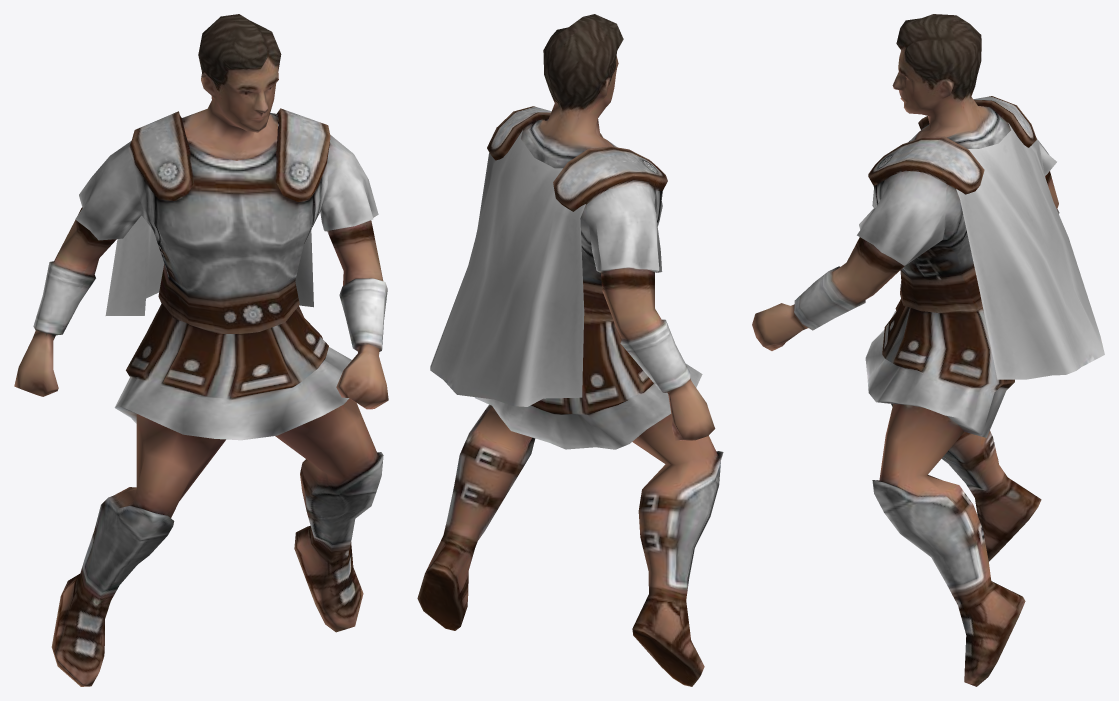
The model's file is rider-slice-heavycavalry.glb.
The picture shows the model from 3 angles, left to right: view 1: azimuth 30°, elevation 25°; view 2: azimuth 150°, elevation 25°; view 3: azimuth 270°, elevation 25°; orthographic projection. The views are drawn at different scales.
Bounding box in the file's own units: 1.08 × 2.08 × 1.08.
Materials: 1 (1 with a texture image).
